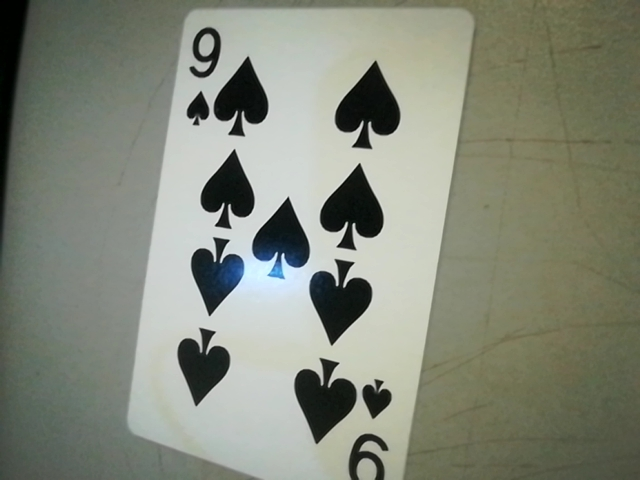ht 9: (342, 364, 406, 480)
